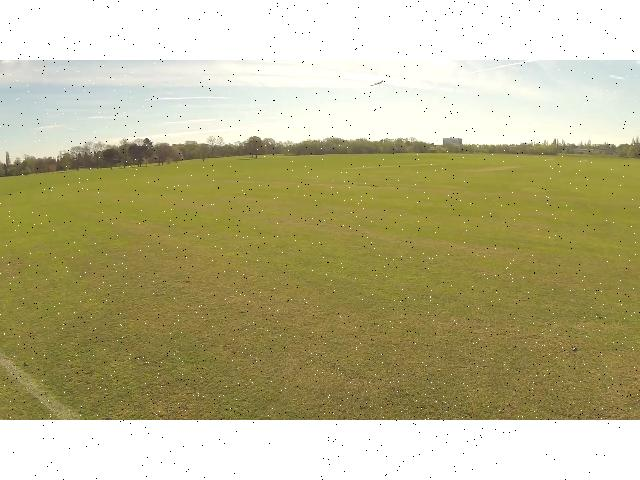Anti-Drone: (362, 78, 396, 90)
